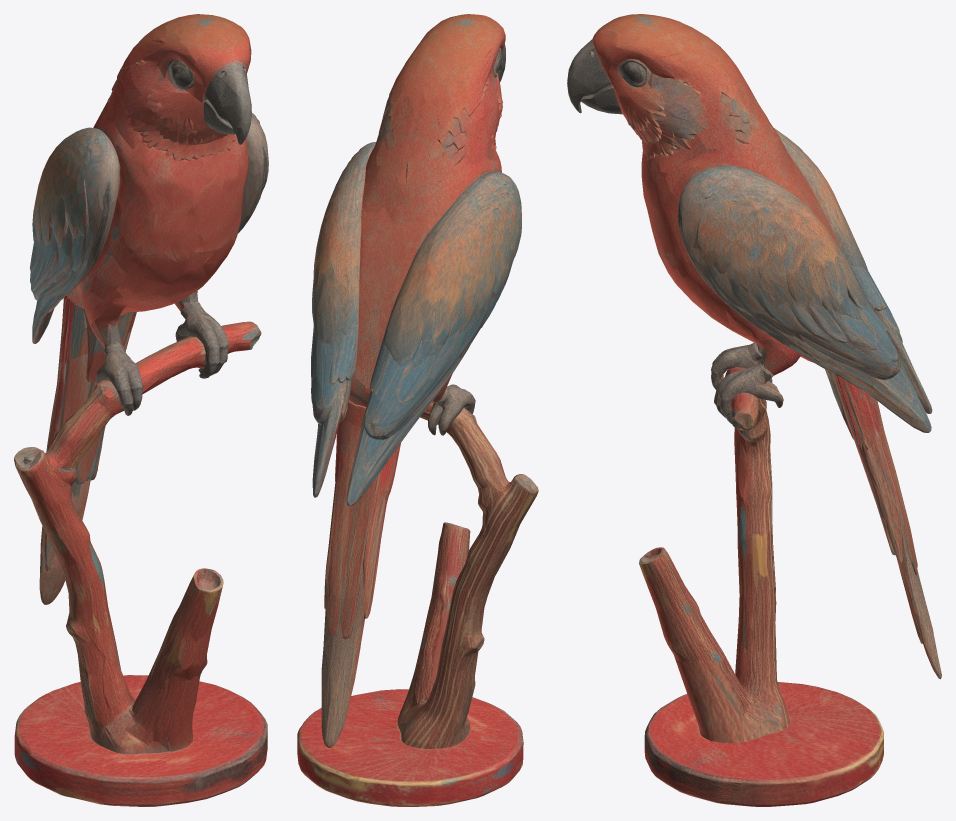
File: pappagallo.glb
The picture shows the model from 3 angles, left to right: view 1: azimuth 30°, elevation 25°; view 2: azimuth 150°, elevation 25°; view 3: azimuth 270°, elevation 25°; orthographic projection. The views are drawn at different scales.
Size of the model in its own units: 0.619 by 1.9 by 0.8738.
Materials: 1 (1 with a texture image).
